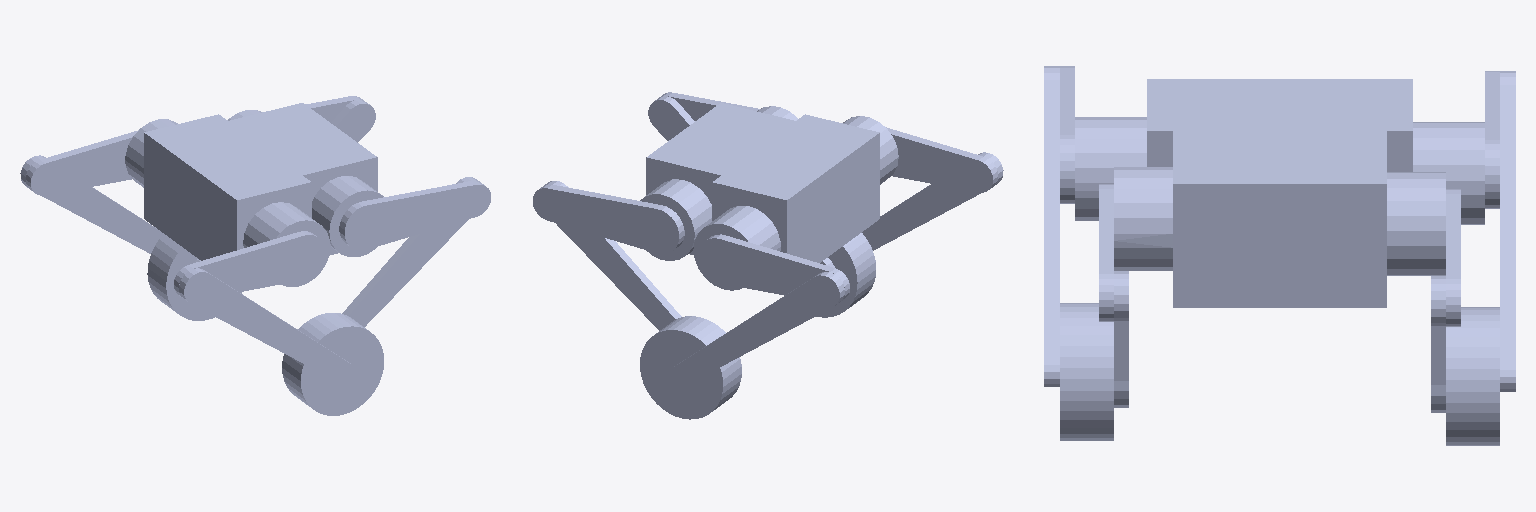
robot.urdf — 整机1:
<?xml version="1.0" encoding="utf-8"?>
<!-- This URDF was automatically created by SolidWorks to URDF Exporter! Originally created by [author] ([email redacted]) 
     Commit Version: 1.6.0-1-g15f4949  Build Version: 1.6.7594.29634
     For more information, please see http://wiki.ros.org/sw_urdf_exporter -->
<robot
  name="整机1">
  <link
    name="body">
    <inertial>
      <origin
        xyz="0.0040111 -0.005863 0.314"
        rpy="0 0 0" />
      <mass
        value="4.5635" />
      <inertia
        ixx="0.028108"
        ixy="-3.8467E-05"
        ixz="-2.9584E-18"
        iyy="0.037678"
        iyz="-0.00023328"
        izz="0.016957" />
    </inertial>
    <visual>
      <origin
        xyz="0 0 0"
        rpy="0 0 0" />
      <geometry>
        <mesh
          filename="package://整机1/meshes/body.STL" />
      </geometry>
      <material
        name="">
        <color
          rgba="0.79216 0.81961 0.93333 1" />
      </material>
    </visual>
    <collision>
      <origin
        xyz="0 0 0"
        rpy="0 0 0" />
      <geometry>
        <mesh
          filename="package://整机1/meshes/body.STL" />
      </geometry>
    </collision>
  </link>
  <link
    name="thigh_lf">
    <inertial>
      <origin
        xyz="-7.7195E-17 -0.061407 0.00575"
        rpy="0 0 0" />
      <mass
        value="0.06" />
      <inertia
        ixx="0.00015591"
        ixy="8.5854E-21"
        ixz="-1.2036E-22"
        iyy="1.1351E-05"
        iyz="-4.999E-22"
        izz="0.00016594" />
    </inertial>
    <visual>
      <origin
        xyz="0 0 0"
        rpy="0 0 0" />
      <geometry>
        <mesh
          filename="package://整机1/meshes/thigh_lf.STL" />
      </geometry>
      <material
        name="">
        <color
          rgba="0.79216 0.81961 0.93333 1" />
      </material>
    </visual>
    <collision>
      <origin
        xyz="0 0 0"
        rpy="0 0 0" />
      <geometry>
        <mesh
          filename="package://整机1/meshes/thigh_lf.STL" />
      </geometry>
    </collision>
  </link>
  <joint
    name="hip_lf"
    type="continuous">
    <origin
      xyz="-0.038414 -0.471 -0.006591"
      rpy="1.5708 1.5708 0" />
    <parent
      link="body" />
    <child
      link="thigh_lf" />
    <axis
      xyz="0 0 1" />
  </joint>
  <link
    name="leg_lf">
    <inertial>
      <origin
        xyz="0 -0.10565 0.00575"
        rpy="0 0 0" />
      <mass
        value="0.0763" />
      <inertia
        ixx="0.00043722"
        ixy="8.4703E-21"
        ixz="-6.7631E-22"
        iyy="7.4436E-06"
        iyz="-1.4642E-21"
        izz="0.00044298" />
    </inertial>
    <visual>
      <origin
        xyz="0 0 0"
        rpy="0 0 0" />
      <geometry>
        <mesh
          filename="package://整机1/meshes/leg_lf.STL" />
      </geometry>
      <material
        name="">
        <color
          rgba="0.79216 0.81961 0.93333 1" />
      </material>
    </visual>
    <collision>
      <origin
        xyz="0 0 0"
        rpy="0 0 0" />
      <geometry>
        <mesh
          filename="package://整机1/meshes/leg_lf.STL" />
      </geometry>
    </collision>
  </link>
  <joint
    name="knee_lf"
    type="continuous">
    <origin
      xyz="0 -0.14 0.0115"
      rpy="0 0 2.4727" />
    <parent
      link="thigh_lf" />
    <child
      link="leg_lf" />
    <axis
      xyz="0 0 1" />
  </joint>
  <link
    name="wheel_lf">
    <inertial>
      <origin
        xyz="-2.7756E-17 2.7756E-17 -0.02075"
        rpy="0 0 0" />
      <mass
        value="0.52195" />
      <inertia
        ixx="0.00044145"
        ixy="0"
        ixz="0"
        iyy="0.00044145"
        iyz="-1.1093E-36"
        izz="0.00073308" />
    </inertial>
    <visual>
      <origin
        xyz="0 0 0"
        rpy="0 0 0" />
      <geometry>
        <mesh
          filename="package://整机1/meshes/wheel_lf.STL" />
      </geometry>
      <material
        name="">
        <color
          rgba="0.79216 0.81961 0.93333 1" />
      </material>
    </visual>
    <collision>
      <origin
        xyz="0 0 0"
        rpy="0 0 0" />
      <geometry>
        <mesh
          filename="package://整机1/meshes/wheel_lf.STL" />
      </geometry>
    </collision>
  </link>
  <joint
    name="wheel_lf"
    type="continuous">
    <origin
      xyz="0 -0.24 0"
      rpy="0 0 -0.90187" />
    <parent
      link="leg_lf" />
    <child
      link="wheel_lf" />
    <axis
      xyz="0 0 1" />
  </joint>
  <link
    name="thigh_lb">
    <inertial>
      <origin
        xyz="-1.301E-17 -0.061407 0.00575"
        rpy="0 0 0" />
      <mass
        value="0.06" />
      <inertia
        ixx="0.00015591"
        ixy="3.4782E-21"
        ixz="-7.1176E-24"
        iyy="1.1351E-05"
        iyz="5.4772E-22"
        izz="0.00016594" />
    </inertial>
    <visual>
      <origin
        xyz="0 0 0"
        rpy="0 0 0" />
      <geometry>
        <mesh
          filename="package://整机1/meshes/thigh_lb.STL" />
      </geometry>
      <material
        name="">
        <color
          rgba="0.79216 0.81961 0.93333 1" />
      </material>
    </visual>
    <collision>
      <origin
        xyz="0 0 0"
        rpy="0 0 0" />
      <geometry>
        <mesh
          filename="package://整机1/meshes/thigh_lb.STL" />
      </geometry>
    </collision>
  </link>
  <joint
    name="hip_lb"
    type="continuous">
    <origin
      xyz="0.056586 -0.441 -0.0046442"
      rpy="1.5708 -1.5708 0" />
    <parent
      link="body" />
    <child
      link="thigh_lb" />
    <axis
      xyz="0 0 1" />
  </joint>
  <link
    name="leg_lb">
    <inertial>
      <origin
        xyz="1.6653E-16 -0.12673 -0.00575"
        rpy="0 0 0" />
      <mass
        value="0.075" />
      <inertia
        ixx="0.00055399"
        ixy="1.7745E-19"
        ixz="-1.838E-21"
        iyy="9.4376E-06"
        iyz="1.0739E-21"
        izz="0.00056177" />
    </inertial>
    <visual>
      <origin
        xyz="0 0 0"
        rpy="0 0 0" />
      <geometry>
        <mesh
          filename="package://整机1/meshes/leg_lb.STL" />
      </geometry>
      <material
        name="">
        <color
          rgba="0.79216 0.81961 0.93333 1" />
      </material>
    </visual>
    <collision>
      <origin
        xyz="0 0 0"
        rpy="0 0 0" />
      <geometry>
        <mesh
          filename="package://整机1/meshes/leg_lb.STL" />
      </geometry>
    </collision>
  </link>
  <joint
    name="knee_lb"
    type="continuous">
    <origin
      xyz="0 -0.14 0"
      rpy="0 0 -2.4623" />
    <parent
      link="thigh_lb" />
    <child
      link="leg_lb" />
    <axis
      xyz="0 0 1" />
  </joint>
  <link
    name="wheel_lb">
    <inertial>
      <origin
        xyz="2.7756E-17 -2.7756E-17 0.02075"
        rpy="0 0 0" />
      <mass
        value="0.52195" />
      <inertia
        ixx="0.00044145"
        ixy="0"
        ixz="0"
        iyy="0.00044145"
        iyz="-1.1093E-36"
        izz="0.00073308" />
    </inertial>
    <visual>
      <origin
        xyz="0 0 0"
        rpy="0 0 0" />
      <geometry>
        <mesh
          filename="package://整机1/meshes/wheel_lb.STL" />
      </geometry>
      <material
        name="">
        <color
          rgba="0.79216 0.81961 0.93333 1" />
      </material>
    </visual>
    <collision>
      <origin
        xyz="0 0 0"
        rpy="0 0 0" />
      <geometry>
        <mesh
          filename="package://整机1/meshes/wheel_lb.STL" />
      </geometry>
    </collision>
  </link>
  <joint
    name="wheel_lb"
    type="continuous">
    <origin
      xyz="0 -0.24 0"
      rpy="0 0 0.89149" />
    <parent
      link="leg_lb" />
    <child
      link="wheel_lb" />
    <axis
      xyz="0 0 1" />
  </joint>
  <link
    name="thigh_rf">
    <inertial>
      <origin
        xyz="2.2551E-17 -0.061407 0.00575"
        rpy="0 0 0" />
      <mass
        value="0.06" />
      <inertia
        ixx="0.00015591"
        ixy="7.2401E-20"
        ixz="1.01E-20"
        iyy="1.1351E-05"
        iyz="-2.7928E-22"
        izz="0.00016594" />
    </inertial>
    <visual>
      <origin
        xyz="0 0 0"
        rpy="0 0 0" />
      <geometry>
        <mesh
          filename="package://整机1/meshes/thigh_rf.STL" />
      </geometry>
      <material
        name="">
        <color
          rgba="0.79216 0.81961 0.93333 1" />
      </material>
    </visual>
    <collision>
      <origin
        xyz="0 0 0"
        rpy="0 0 0" />
      <geometry>
        <mesh
          filename="package://整机1/meshes/thigh_rf.STL" />
      </geometry>
    </collision>
  </link>
  <joint
    name="hip_rf"
    type="continuous">
    <origin
      xyz="-0.038414 -0.1455 -0.010481"
      rpy="1.5708 1.5708 0" />
    <parent
      link="body" />
    <child
      link="thigh_rf" />
    <axis
      xyz="0 0 -1" />
  </joint>
  <link
    name="leg_rf">
    <inertial>
      <origin
        xyz="-5.5511E-17 -0.10565 -0.00575"
        rpy="0 0 0" />
      <mass
        value="0.0763" />
      <inertia
        ixx="0.00043722"
        ixy="-4.6163E-20"
        ixz="3.4454E-22"
        iyy="7.4436E-06"
        iyz="-4.1878E-19"
        izz="0.00044298" />
    </inertial>
    <visual>
      <origin
        xyz="0 0 0"
        rpy="0 0 0" />
      <geometry>
        <mesh
          filename="package://整机1/meshes/leg_rf.STL" />
      </geometry>
      <material
        name="">
        <color
          rgba="0.79216 0.81961 0.93333 1" />
      </material>
    </visual>
    <collision>
      <origin
        xyz="0 0 0"
        rpy="0 0 0" />
      <geometry>
        <mesh
          filename="package://整机1/meshes/leg_rf.STL" />
      </geometry>
    </collision>
  </link>
  <joint
    name="knee_rf"
    type="continuous">
    <origin
      xyz="0 -0.14 0"
      rpy="0 0 2.4715" />
    <parent
      link="thigh_rf" />
    <child
      link="leg_rf" />
    <axis
      xyz="0 0 1" />
  </joint>
  <link
    name="wheel_rf">
    <inertial>
      <origin
        xyz="4.1633E-17 0 0.02075"
        rpy="0 0 0" />
      <mass
        value="0.52195" />
      <inertia
        ixx="0.00044145"
        ixy="-2.7105E-20"
        ixz="-2.0781E-20"
        iyy="0.00044145"
        iyz="-9.4571E-21"
        izz="0.00073308" />
    </inertial>
    <visual>
      <origin
        xyz="0 0 0"
        rpy="0 0 0" />
      <geometry>
        <mesh
          filename="package://整机1/meshes/wheel_rf.STL" />
      </geometry>
      <material
        name="">
        <color
          rgba="0.79216 0.81961 0.93333 1" />
      </material>
    </visual>
    <collision>
      <origin
        xyz="0 0 0"
        rpy="0 0 0" />
      <geometry>
        <mesh
          filename="package://整机1/meshes/wheel_rf.STL" />
      </geometry>
    </collision>
  </link>
  <joint
    name="wheel_rf"
    type="continuous">
    <origin
      xyz="0 -0.24 0"
      rpy="0 0 -0.51451" />
    <parent
      link="leg_rf" />
    <child
      link="wheel_rf" />
    <axis
      xyz="0 0 1" />
  </joint>
  <link
    name="thigh_rb">
    <inertial>
      <origin
        xyz="1.7347E-18 -0.061407 0.00575"
        rpy="0 0 0" />
      <mass
        value="0.06" />
      <inertia
        ixx="0.00015591"
        ixy="-1.7635E-20"
        ixz="-3.5941E-21"
        iyy="1.1351E-05"
        iyz="9.1036E-21"
        izz="0.00016594" />
    </inertial>
    <visual>
      <origin
        xyz="0 0 0"
        rpy="0 0 0" />
      <geometry>
        <mesh
          filename="package://整机1/meshes/thigh_rb.STL" />
      </geometry>
      <material
        name="">
        <color
          rgba="0.79216 0.81961 0.93333 1" />
      </material>
    </visual>
    <collision>
      <origin
        xyz="0 0 0"
        rpy="0 0 0" />
      <geometry>
        <mesh
          filename="package://整机1/meshes/thigh_rb.STL" />
      </geometry>
    </collision>
  </link>
  <joint
    name="hip_rb"
    type="continuous">
    <origin
      xyz="0.056586 -0.1755 -0.0089859"
      rpy="1.5708 -1.5708 0" />
    <parent
      link="body" />
    <child
      link="thigh_rb" />
    <axis
      xyz="0 0 -1" />
  </joint>
  <link
    name="leg_rb">
    <inertial>
      <origin
        xyz="0 -0.12673 0.00575"
        rpy="0 0 0" />
      <mass
        value="0.075" />
      <inertia
        ixx="0.00055399"
        ixy="-2.5877E-19"
        ixz="-2.7261E-21"
        iyy="9.4376E-06"
        iyz="-7.0383E-19"
        izz="0.00056177" />
    </inertial>
    <visual>
      <origin
        xyz="0 0 0"
        rpy="0 0 0" />
      <geometry>
        <mesh
          filename="package://整机1/meshes/leg_rb.STL" />
      </geometry>
      <material
        name="">
        <color
          rgba="0.79216 0.81961 0.93333 1" />
      </material>
    </visual>
    <collision>
      <origin
        xyz="0 0 0"
        rpy="0 0 0" />
      <geometry>
        <mesh
          filename="package://整机1/meshes/leg_rb.STL" />
      </geometry>
    </collision>
  </link>
  <joint
    name="knee_rb"
    type="continuous">
    <origin
      xyz="0 -0.14 0.0115"
      rpy="0 0 -2.4635" />
    <parent
      link="thigh_rb" />
    <child
      link="leg_rb" />
    <axis
      xyz="0 0 1" />
  </joint>
  <link
    name="wheel_rb">
    <inertial>
      <origin
        xyz="6.9389E-18 -5.5511E-17 -0.02075"
        rpy="0 0 0" />
      <mass
        value="0.52195" />
      <inertia
        ixx="0.00044145"
        ixy="-2.7105E-20"
        ixz="-2.0781E-20"
        iyy="0.00044145"
        iyz="-9.4571E-21"
        izz="0.00073308" />
    </inertial>
    <visual>
      <origin
        xyz="0 0 0"
        rpy="0 0 0" />
      <geometry>
        <mesh
          filename="package://整机1/meshes/wheel_rb.STL" />
      </geometry>
      <material
        name="">
        <color
          rgba="0.79216 0.81961 0.93333 1" />
      </material>
    </visual>
    <collision>
      <origin
        xyz="0 0 0"
        rpy="0 0 0" />
      <geometry>
        <mesh
          filename="package://整机1/meshes/wheel_rb.STL" />
      </geometry>
    </collision>
  </link>
  <joint
    name="wheel_rb"
    type="continuous">
    <origin
      xyz="0 -0.24 0"
      rpy="0 0 1.2788" />
    <parent
      link="leg_rb" />
    <child
      link="wheel_rb" />
    <axis
      xyz="0 0 1" />
  </joint>
</robot>

--- Facts derived from the render (not from the file) ---
Views: 3 orthographic renders of the robot side by side, from view 1: azimuth 30°, elevation 25°; view 2: azimuth 150°, elevation 25°; view 3: azimuth 270°, elevation 25°.
Robot: 整机1 — 13 links, 12 joints (12 continuous); root link body; default pose: every joint at zero.
Visible links, largest first — view 1: body, thigh_lb, leg_lf, thigh_lf, thigh_rf, leg_lb, wheel_lf, leg_rf, wheel_lb, wheel_rb, leg_rb, thigh_rb; view 2: body, thigh_rb, leg_rf, thigh_rf, thigh_lf, leg_rb, wheel_rb, leg_lf, wheel_rf, leg_lb, wheel_lb, wheel_lf (+1 smaller); view 3: body, wheel_lf, wheel_rf, leg_lf, leg_rf, thigh_lf, thigh_lb, thigh_rf, thigh_rb, leg_lb, leg_rb.
Link boxes in pixels (x1,y1,x2,y2): body: (125,103,383,286); thigh_lb: (339,181,490,250); leg_lf: (179,268,356,384); thigh_lf: (174,231,325,298); thigh_rf: (26,130,138,195); leg_lb: (342,177,479,326); wheel_lf: (301,313,383,413); leg_rf: (20,155,163,253); wheel_lb: (282,327,344,415); wheel_rb: (147,234,206,320); leg_rb: (194,100,375,262); thigh_rb: (306,96,363,122); body: (640,103,898,290); thigh_rb: (533,184,684,253); leg_rf: (667,272,844,388); thigh_rf: (698,234,849,300); thigh_lf: (886,127,997,192); leg_rb: (544,181,681,330); wheel_rb: (640,330,741,417); leg_lf: (862,152,1003,250); wheel_rf: (643,316,724,419); leg_lb: (648,96,834,267); wheel_lb: (843,233,875,308); wheel_lf: (816,247,857,317); body: (1075,79,1484,307); wheel_lf: (1060,303,1113,440); wheel_rf: (1446,307,1499,444); leg_lf: (1044,66,1059,386); leg_rf: (1500,71,1515,391); thigh_lf: (1060,66,1074,203); thigh_lb: (1099,184,1113,321); thigh_rf: (1485,71,1499,208); thigh_rb: (1446,189,1460,326); leg_lb: (1114,271,1128,407); leg_rb: (1431,276,1445,412).
Size in the robot's own frame: 0.414 by 0.36 by 0.2597 metres.
Meshes: 13 distinct files referenced, 13 mesh visuals loaded (13 binary STL).
